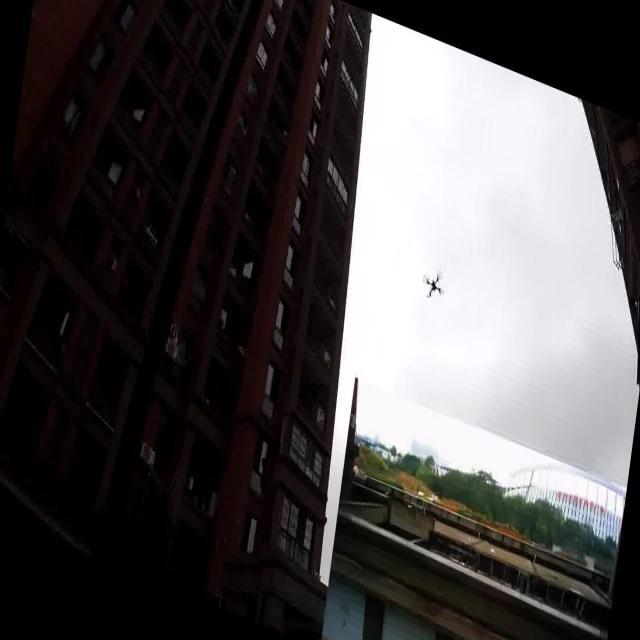drone: (416, 262, 446, 308)
